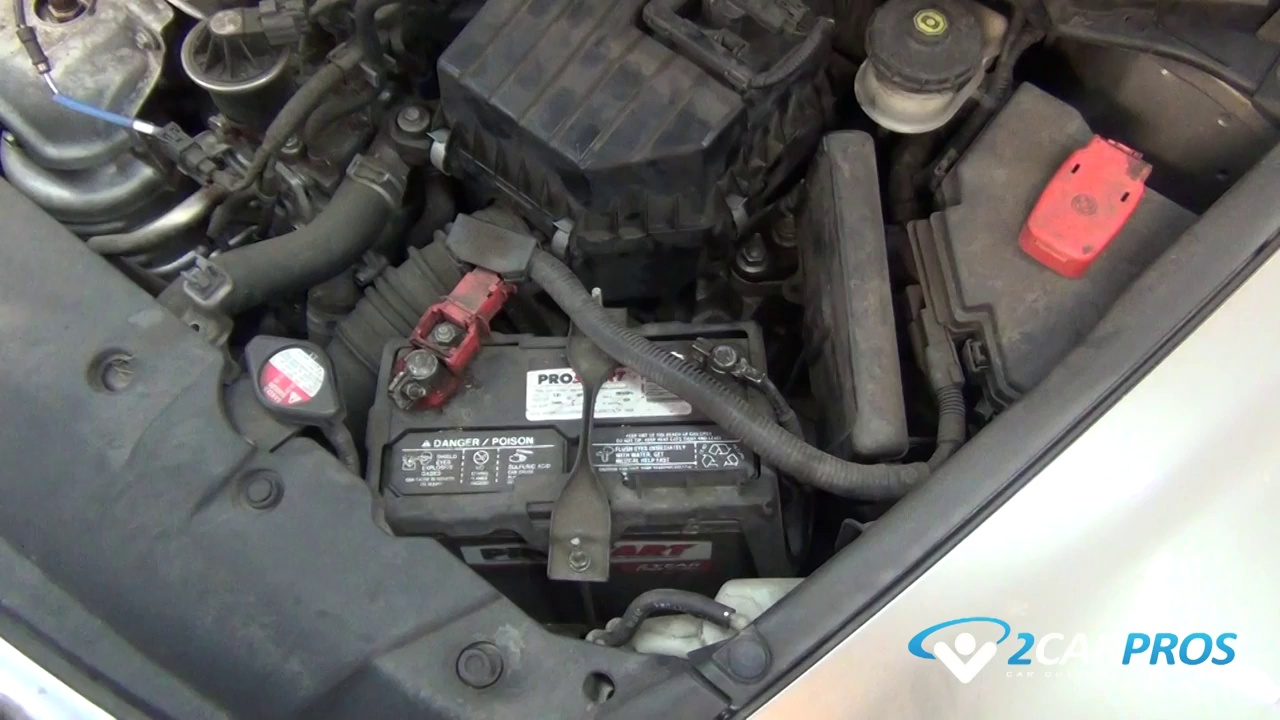battery: (379, 295, 775, 536)
neg_connected: (680, 309, 788, 406)
pos_connected: (383, 273, 511, 421)
